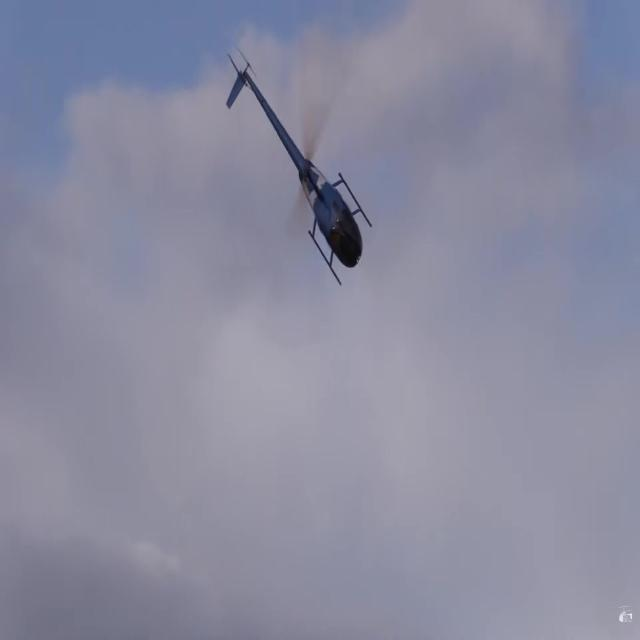CIV_HELO: (225, 48, 372, 292)
